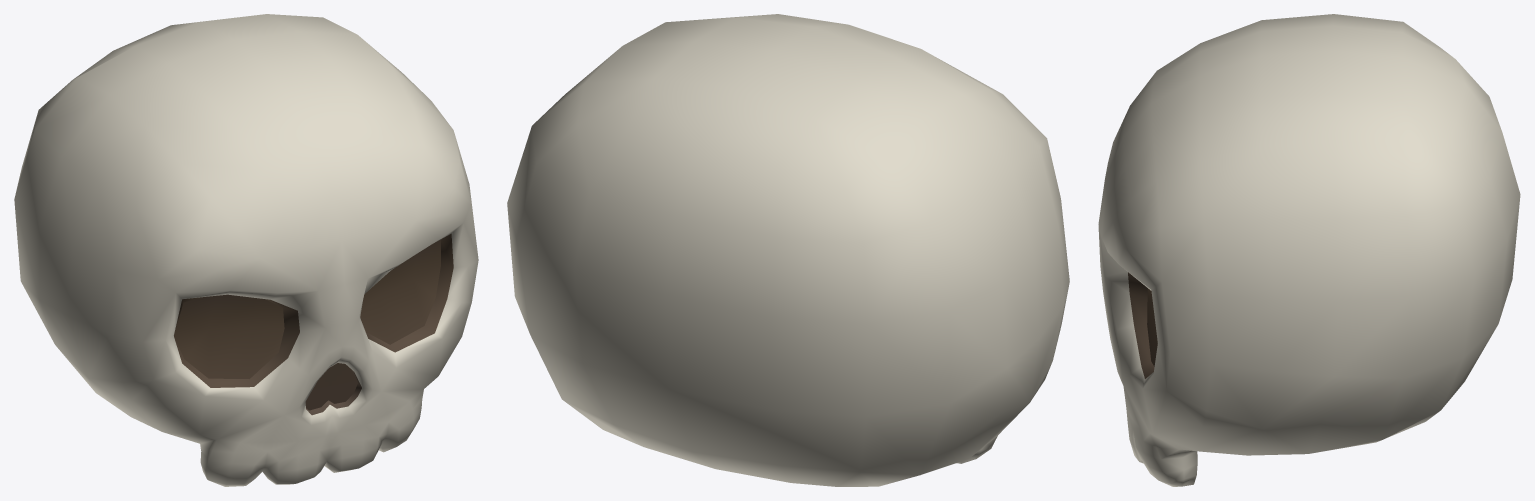
3 renders of one model, left to right at view 1: azimuth 30°, elevation 25°; view 2: azimuth 150°, elevation 25°; view 3: azimuth 270°, elevation 25°, orthographic. The views are drawn at different scales.
Visible parts, largest first — view 1: model_1.023; view 2: model_1.023; view 3: model_1.023.
Boxes of the visible parts, box(x1,y1,x2,y2) form: model_1.023: box(14, 14, 478, 486); model_1.023: box(507, 14, 1069, 486); model_1.023: box(1098, 14, 1520, 486).
Bounding box in the file's own units: 4.13 × 3.8 × 3.68.
